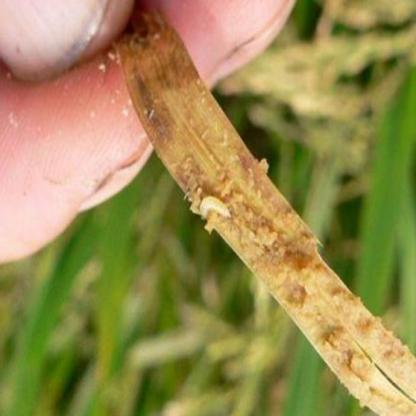whorl-maggot: (200, 188, 234, 225)
